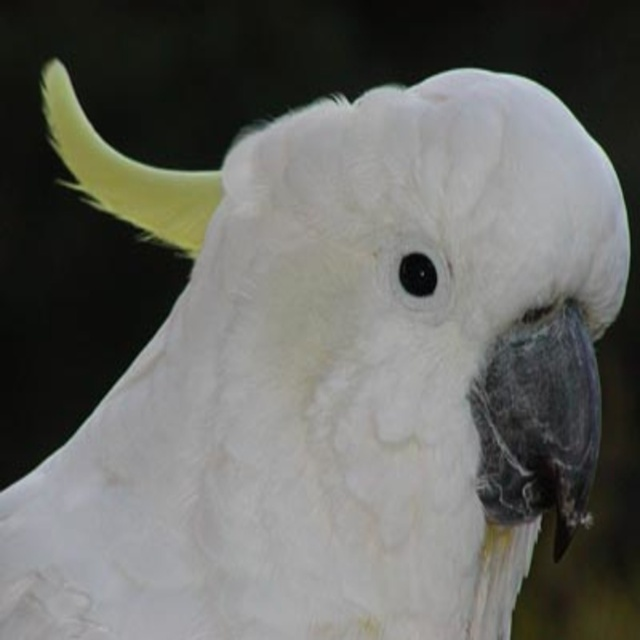Parrot: (1, 55, 632, 639)
